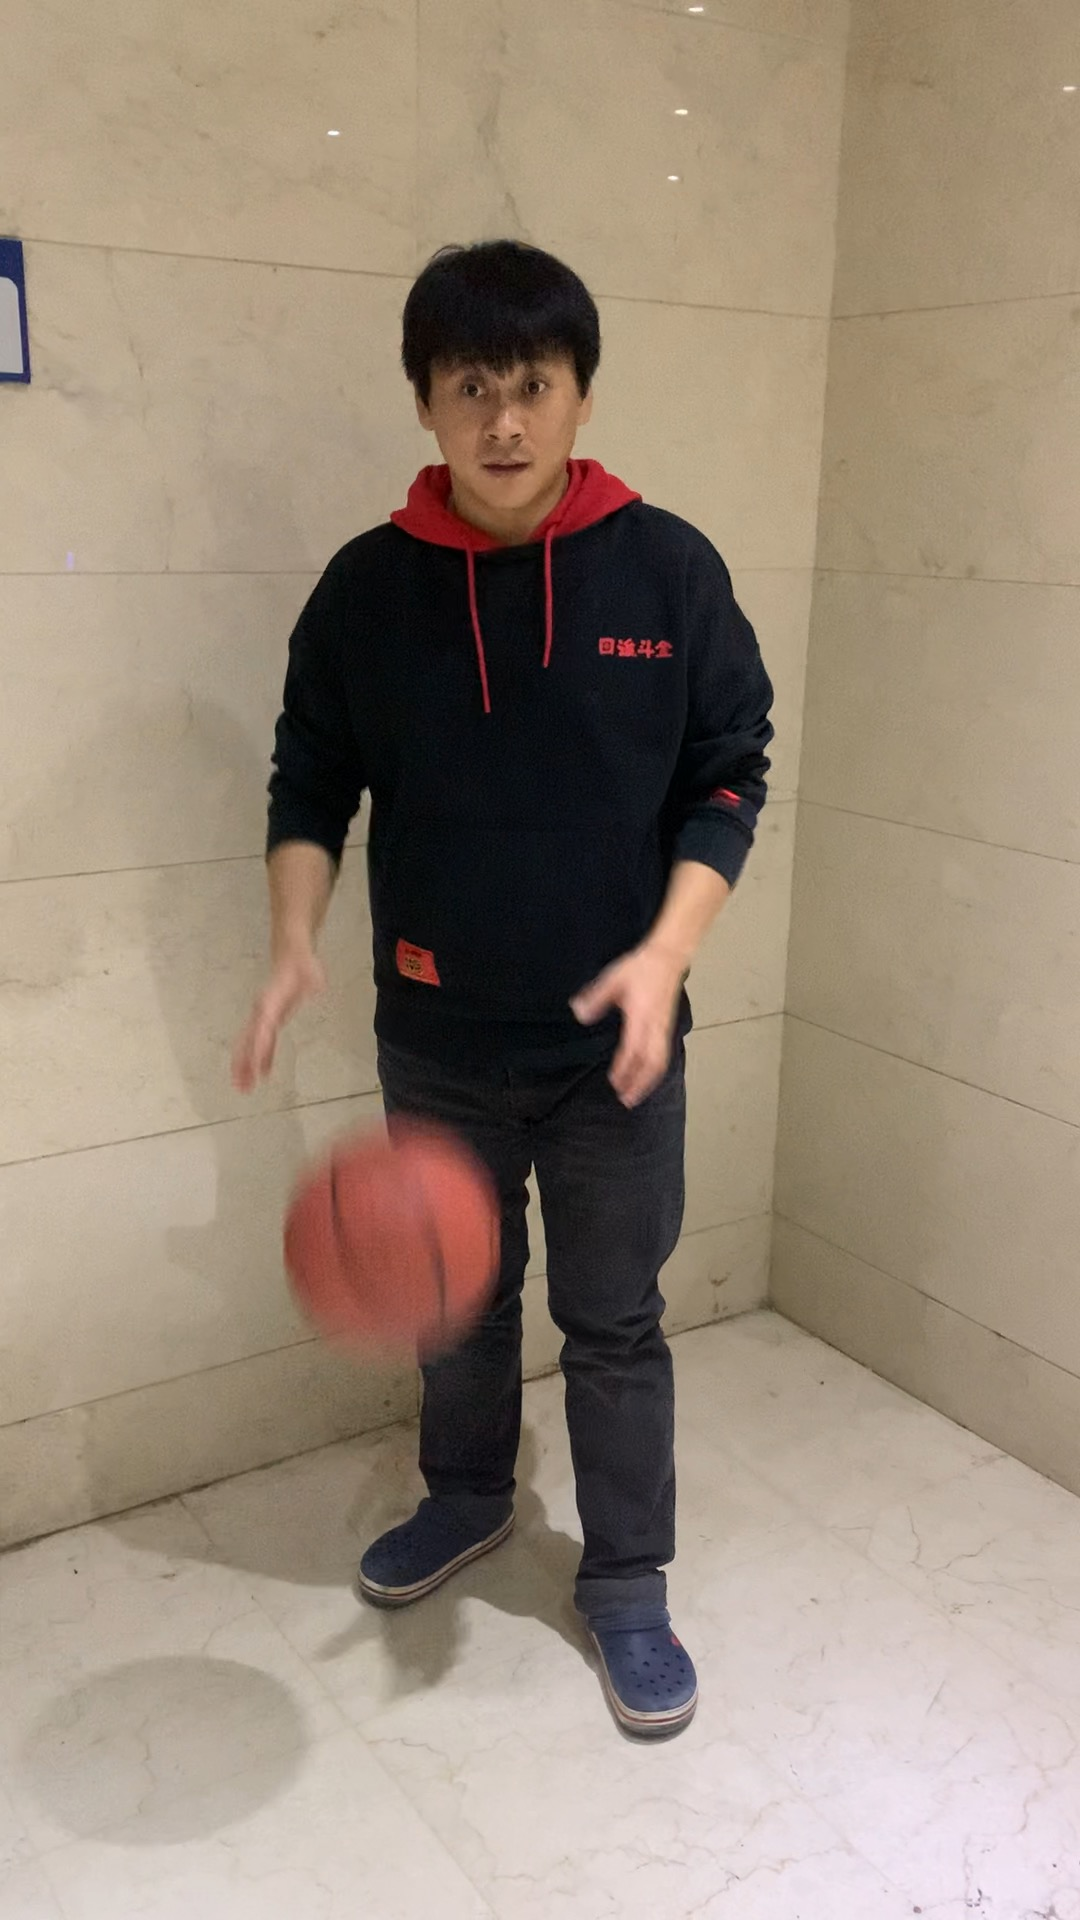ball: (287, 1133, 493, 1341)
